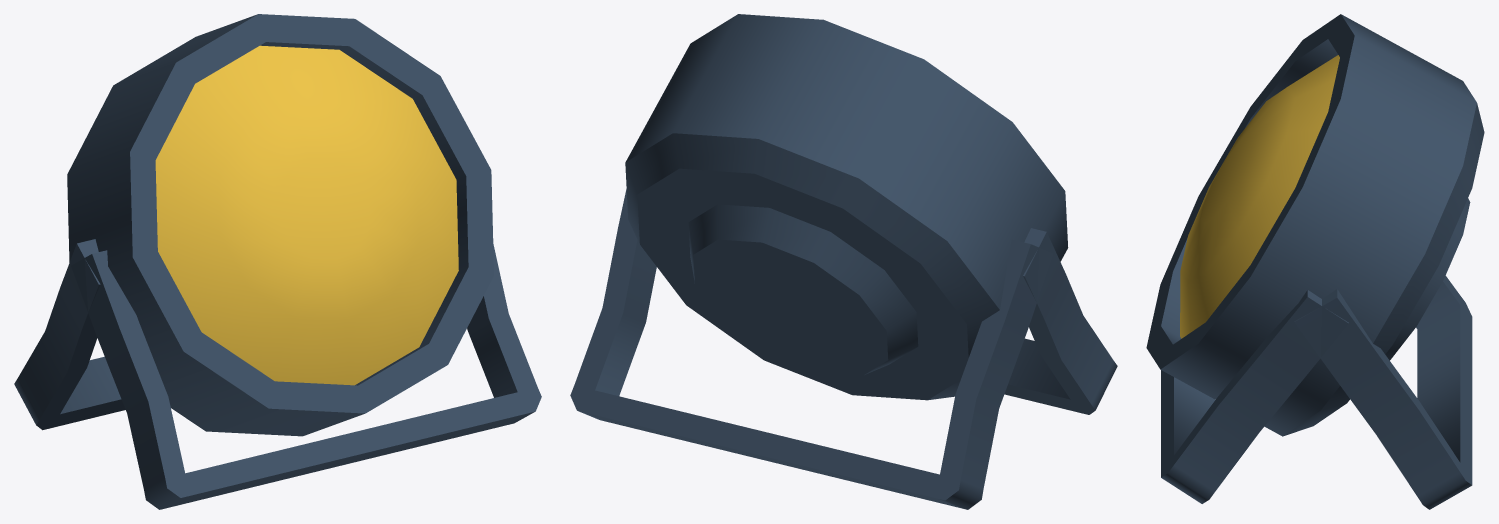
Rendered from Lamp.fbx.
The picture shows the model from 3 angles, left to right: view 1: azimuth 30°, elevation 25°; view 2: azimuth 150°, elevation 25°; view 3: azimuth 270°, elevation 25°; orthographic projection. The views are drawn at different scales.
Visible parts, largest first — view 1: Cylinder; view 2: Cylinder; view 3: Cylinder.
Part boxes in pixels (x1,y1,x2,y2): Cylinder: (14,14,541,509); Cylinder: (570,14,1117,509); Cylinder: (1146,14,1484,509).
Bounding box in the file's own units: 308 × 309 × 243.
